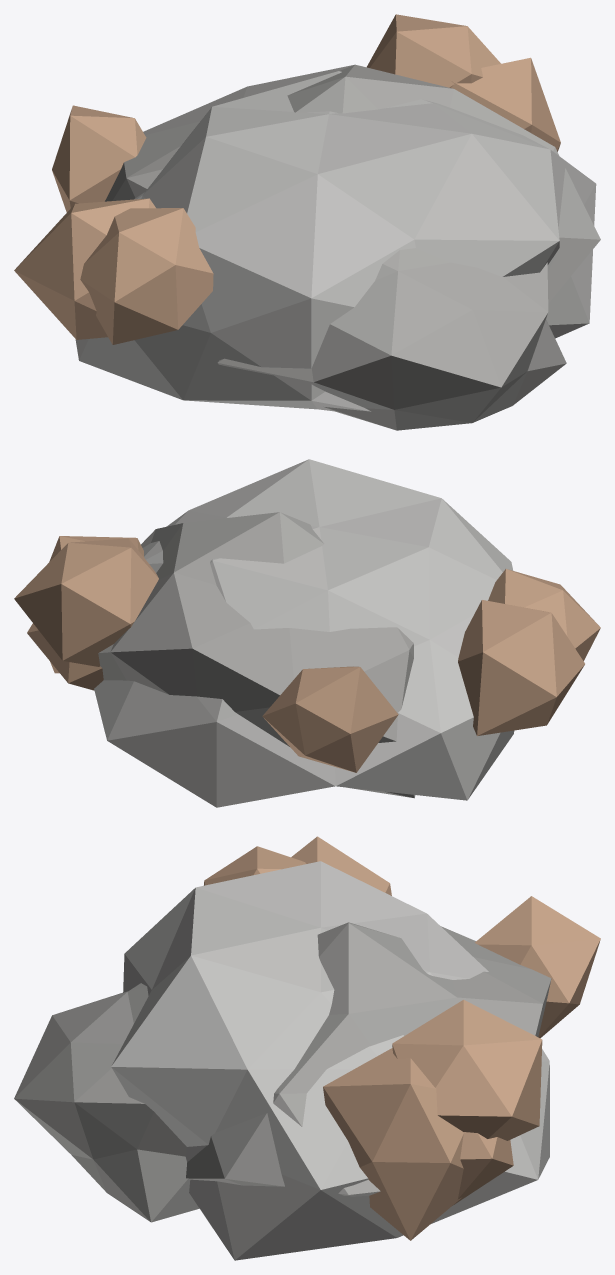
Rendered from node_metal_0.glb.
3 renders of one model, top to bottom at view 1: azimuth 30°, elevation 25°; view 2: azimuth 150°, elevation 25°; view 3: azimuth 270°, elevation 25°, orthographic. The views are drawn at different scales.
Parts seen in each view (by area): view 1: node_metal_0; view 2: node_metal_0; view 3: node_metal_0.
Part boxes in pixels (left/top/right/bottom): node_metal_0: left=14, top=14, right=600, bottom=430; node_metal_0: left=14, top=459, right=600, bottom=807; node_metal_0: left=14, top=836, right=600, bottom=1260.
Bounding box in the file's own units: 1.53 × 0.6563 × 1.41.
